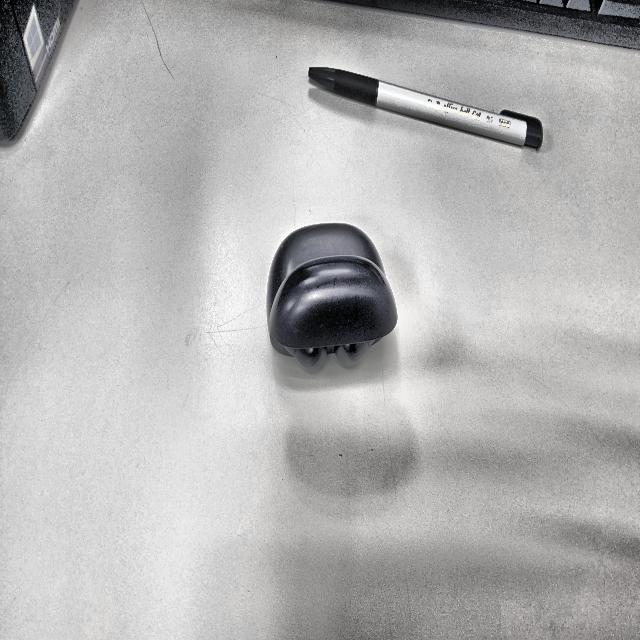Bluetooth headphones: (267, 223, 397, 370), (335, 342, 369, 366), (294, 348, 327, 368)
